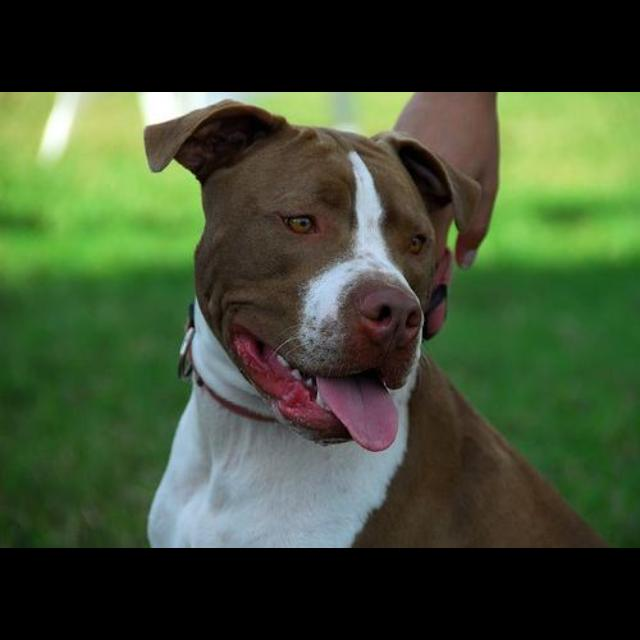staffford: (142, 98, 620, 548)
